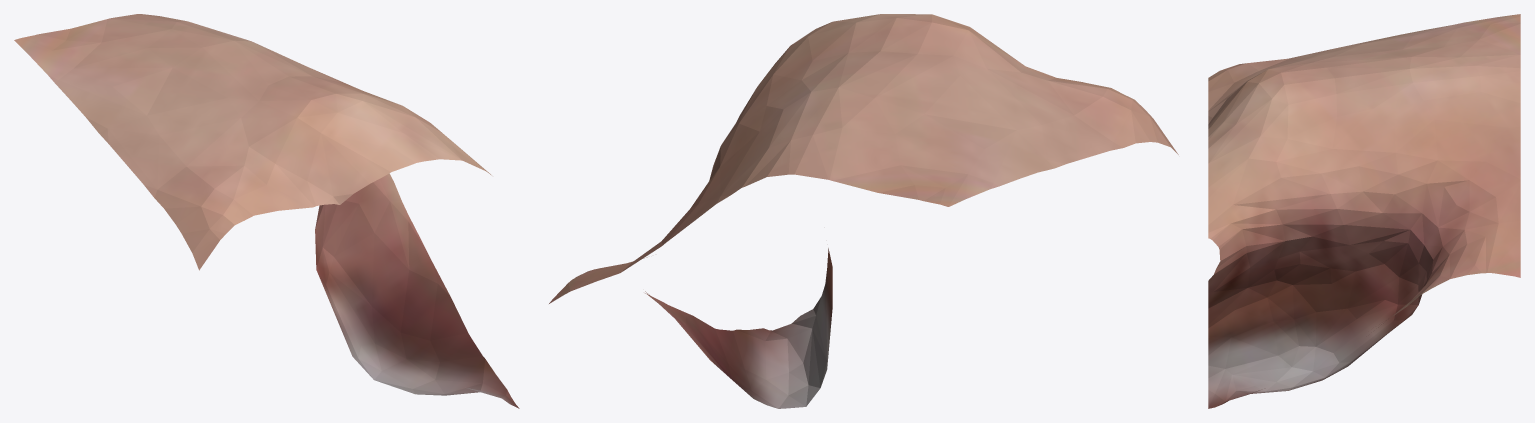
3 views of the same model, side by side, from view 1: azimuth 30°, elevation 25°; view 2: azimuth 150°, elevation 25°; view 3: azimuth 270°, elevation 25° (orthographic). The views are drawn at different scales.
Bounding box in the file's own units: 42.87 × 41.4 × 42.87.
1 material, 1 textured.
